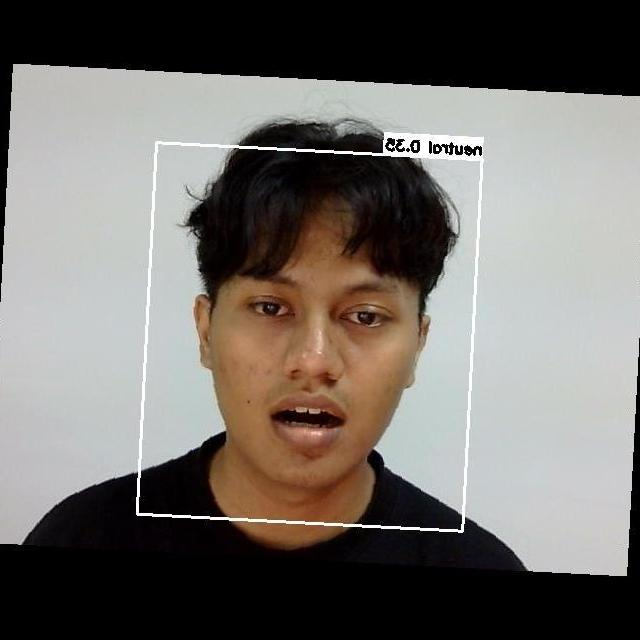Surprised: (214, 245, 397, 468)
